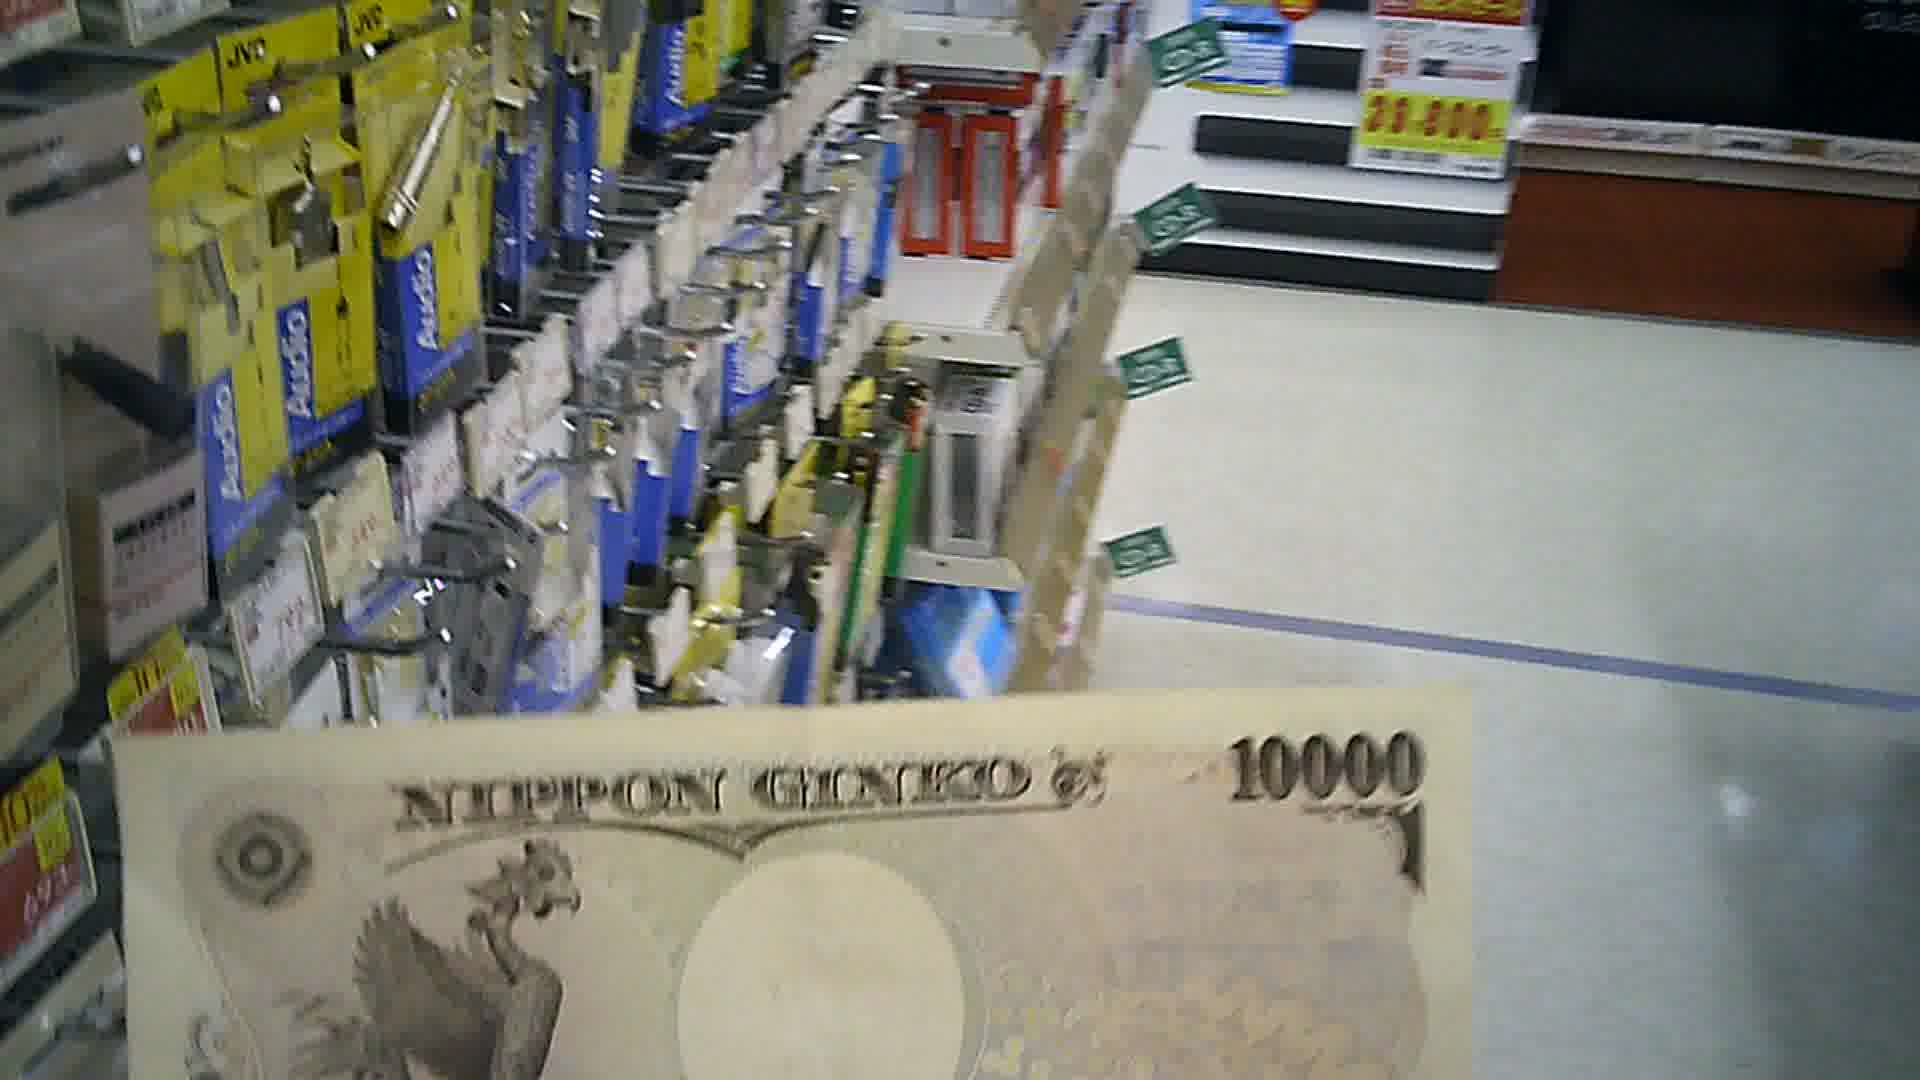10,000 Yen: (104, 705, 1509, 1064)
